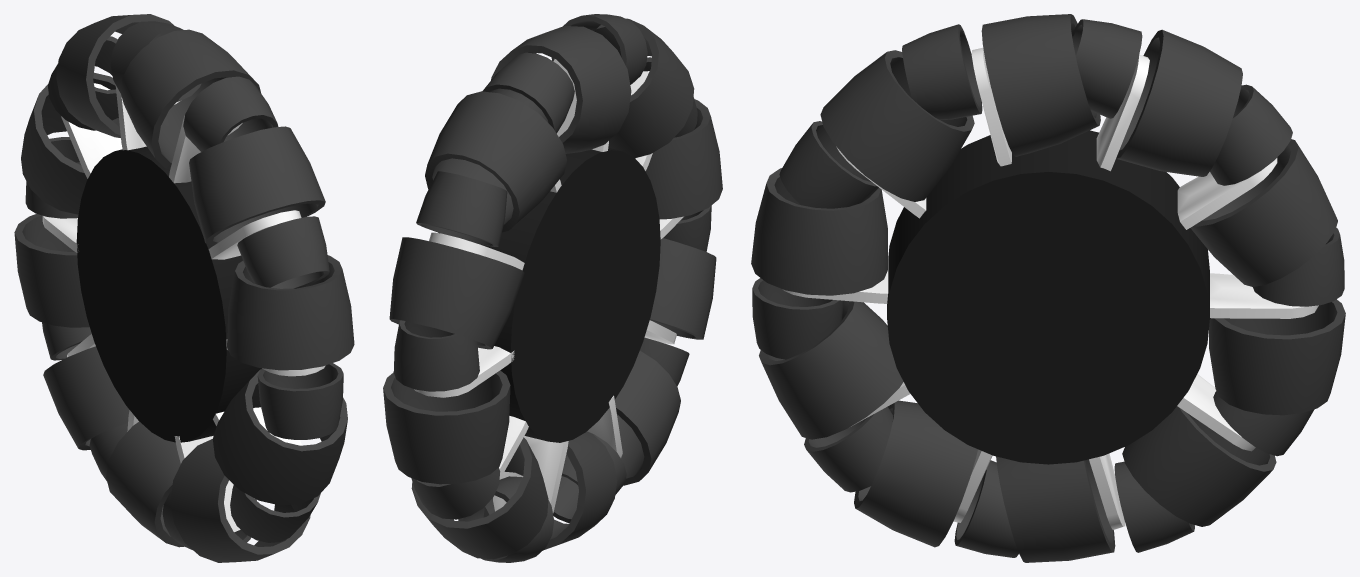
File: omniwheel_10.glb
The picture shows the model from 3 angles, left to right: view 1: azimuth 30°, elevation 25°; view 2: azimuth 150°, elevation 25°; view 3: azimuth 270°, elevation 25°; orthographic projection. The views are drawn at different scales.
Parts seen in each view (by area): view 1: geo1; view 2: geo1; view 3: geo1.
Part boxes in pixels (x1=…): geo1: x1=14, y1=14, x2=354, y2=562; geo1: x1=383, y1=14, x2=722, y2=562; geo1: x1=751, y1=14, x2=1345, y2=562.
Size of the model in its own units: 0.0493 by 0.2122 by 0.2125.
Materials: 3 (1 with a texture image).
